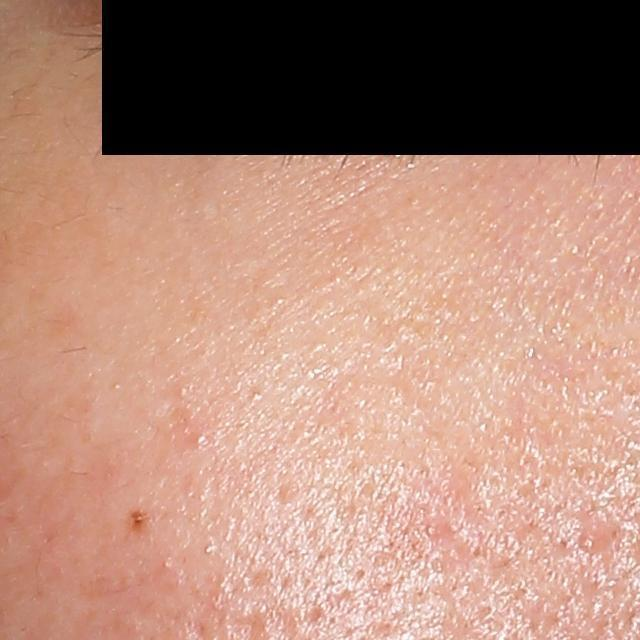comedo: (184, 431, 210, 448)
nevus: (127, 507, 151, 534)
